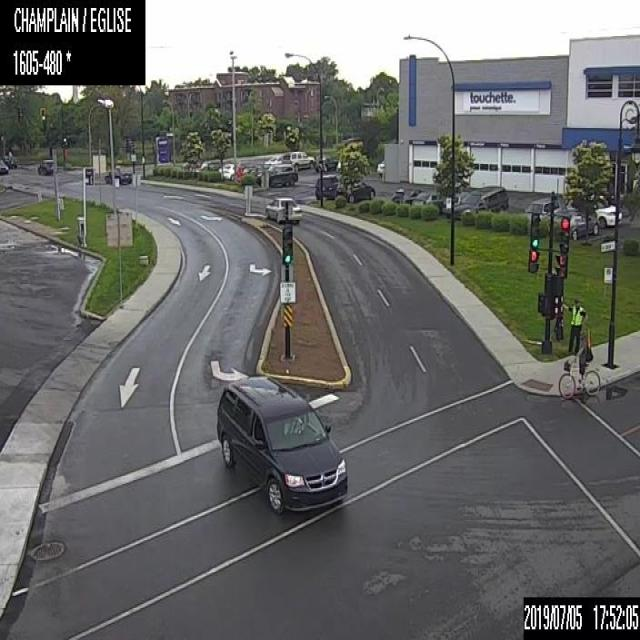cyclist: (556, 341, 600, 399)
pedestrian: (561, 298, 584, 354)
vehicle: (215, 374, 347, 514), (566, 194, 622, 228), (454, 184, 508, 219), (553, 208, 599, 240), (264, 193, 301, 223), (256, 162, 298, 185), (523, 196, 564, 219), (335, 180, 375, 202), (412, 191, 446, 212), (442, 190, 468, 214), (314, 174, 338, 198), (282, 150, 314, 167), (390, 187, 422, 204), (104, 166, 131, 182), (314, 154, 339, 170), (237, 160, 256, 180), (218, 162, 234, 180), (263, 154, 282, 168), (37, 158, 53, 174), (200, 158, 219, 170), (2, 154, 17, 167), (376, 159, 384, 177), (0, 158, 8, 173)
